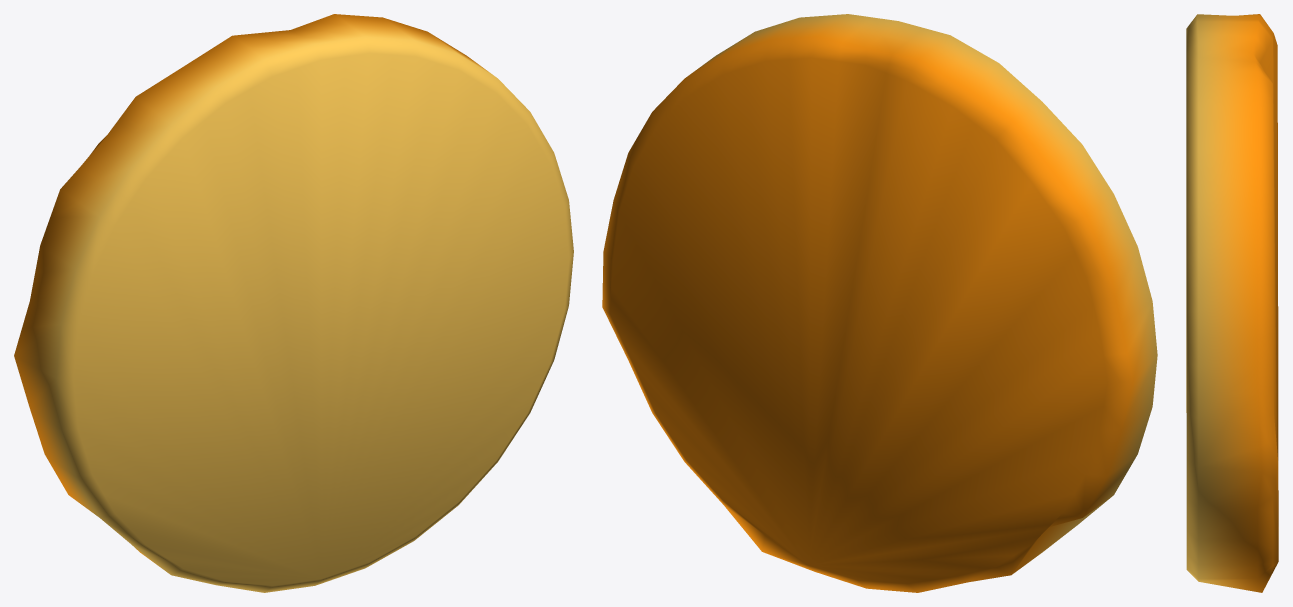
The model's file is pancake 1.fbx.
3 renders of one model, left to right at view 1: azimuth 30°, elevation 25°; view 2: azimuth 150°, elevation 25°; view 3: azimuth 270°, elevation 25°, orthographic. The views are drawn at different scales.
Visible parts, largest first — view 1: Cube; view 2: Cube; view 3: Cube.
Part boxes in pixels (bbox=[...]): Cube: bbox=[14, 14, 573, 592]; Cube: bbox=[602, 14, 1157, 592]; Cube: bbox=[1186, 14, 1278, 592].
Bounding box in the file's own units: 765 × 749 × 122.
